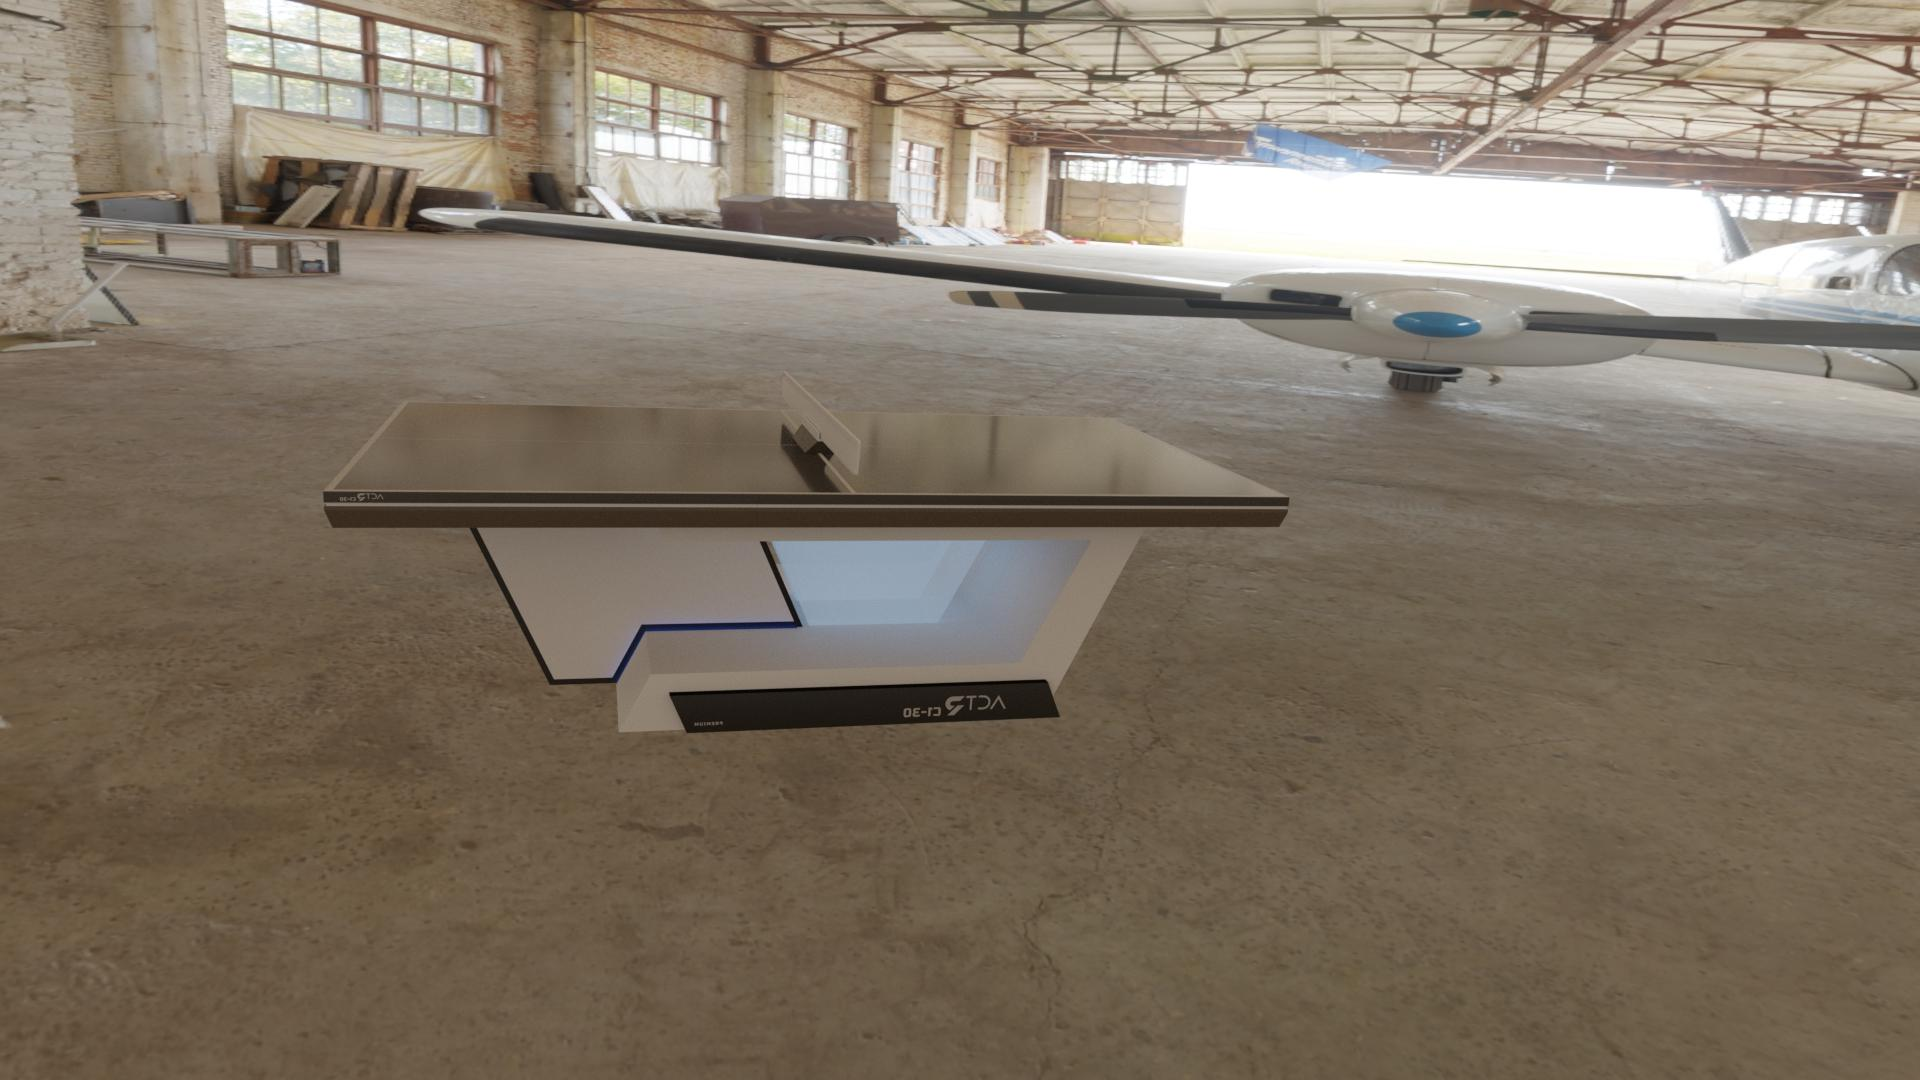table: (332, 402, 1280, 496)
